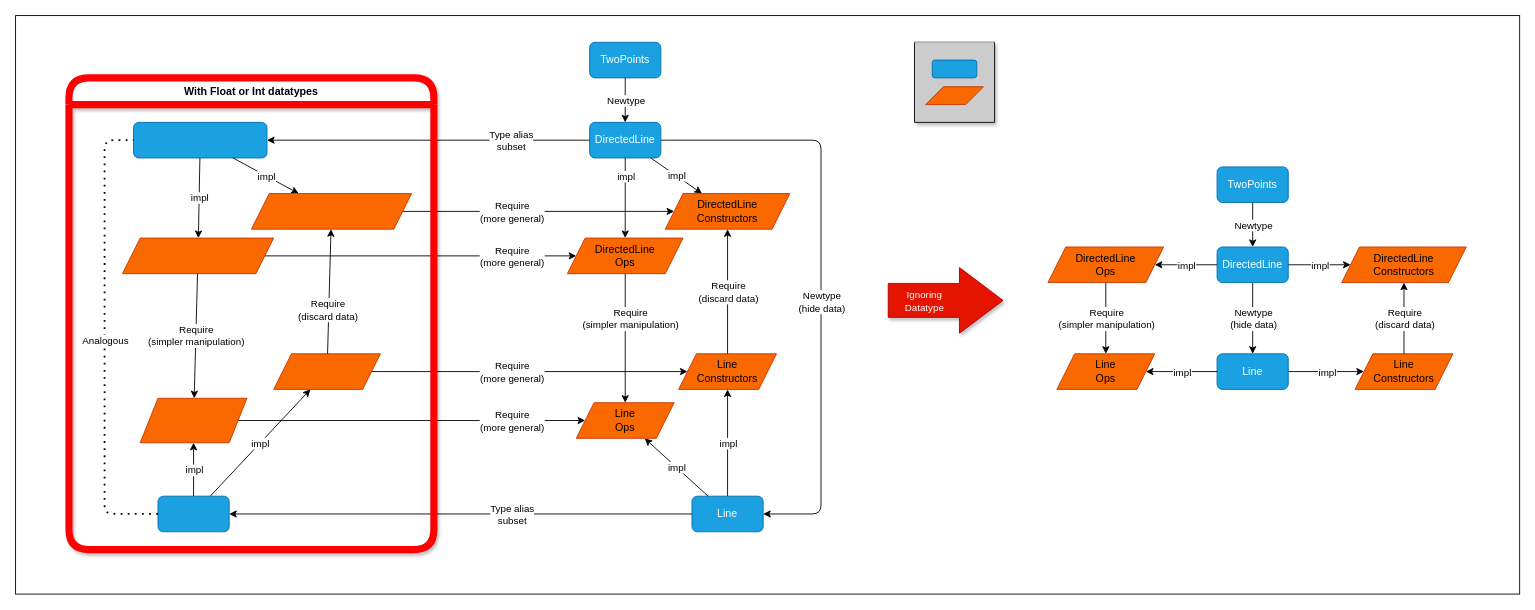
This 1535x610 diagram has some shape labels left out. Each missing label, with the centre of its shape:
DirectedFloat(Int)Line: point 200,139
DirectedFloat(Int)Line Constructors: point 331,211
DirectedFloat(Int)Line Ops: point 197,255
Float(Int)Line: point 193,513
Float(Int)Line Constructors: point 326,371
Float(Int)Line Ops: point 193,420
Struct: point 954,68
Trait: point 954,95
